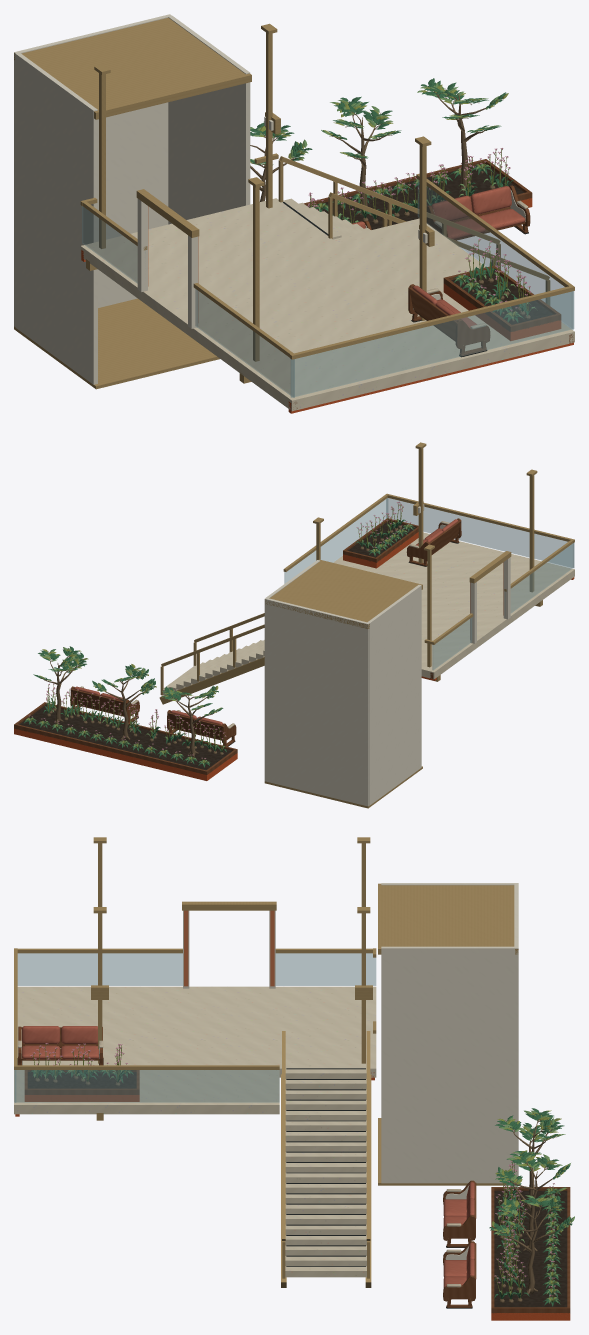
Rendered from AquaticReceiving.glb.
The picture shows the model from 3 angles, top to bottom: view 1: azimuth 30°, elevation 25°; view 2: azimuth 150°, elevation 25°; view 3: azimuth 270°, elevation 25°; orthographic projection. The views are drawn at different scales.
Parts seen in each view (by area): view 1: AquaticArrivalSlab, Aftmid_V2__BoardingLift_HousingSide_-7.7, Aftmid_V2__BoardingLift_Header, SouthGuardGlass, Aftmid_V2__BoardingLift_HousingSide_-3.5, Aftmid_V2__BoardingLift_Rear, Aftmid_V2__BoardingLift_PitPan, EastGuardGlass, TrackGuardGlass_193.11, WaterGardenBench_1_0, NorthGalleryGarden_Soil, WaterGardenBench_2_0 (+22 smaller); view 2: Aftmid_V2__BoardingLift_Rear, AquaticArrivalSlab, Aftmid_V2__BoardingLift_HousingSide_-7.7, Aftmid_V2__BoardingLift_Header, SouthGuardGlass, NorthGalleryGarden_Soil, EastGuardGlass, TrackGuardGlass_193.11, NorthGalleryGarden_Base, WaterGardenBench_0_0, WaterGardenBench_1_0, WaterGardenBench_2_0 (+12 smaller); view 3: AquaticArrivalSlab, Aftmid_V2__BoardingLift_HousingSide_-3.5, EastGuardGlass, Aftmid_V2__BoardingLift_Header, TrackGuardGlass_193.11, NorthGalleryGarden_Soil, TrackGuardGlass_187.9, WaterGardenBench_2_0, WaterGardenBench_1_0, WaterGardenBench_0_0, UpperRefugeGarden_Soil, EastGuard (+34 smaller).
Part boxes in pixels (box(x1,y1,x2,y2)): AquaticArrivalSlab: box(80, 198, 574, 411); Aftmid_V2__BoardingLift_HousingSide_-7.7: box(15, 53, 97, 384); Aftmid_V2__BoardingLift_Header: box(14, 17, 251, 119); SouthGuardGlass: box(290, 291, 574, 397); Aftmid_V2__BoardingLift_HousingSide_-3.5: box(168, 15, 250, 224); Aftmid_V2__BoardingLift_Rear: box(14, 14, 171, 326); Aftmid_V2__BoardingLift_PitPan: box(14, 298, 219, 389); EastGuardGlass: box(417, 179, 573, 329); TrackGuardGlass_193.11: box(195, 289, 294, 397); WaterGardenBench_1_0: box(426, 185, 530, 240); NorthGalleryGarden_Soil: box(309, 163, 524, 229); WaterGardenBench_2_0: box(408, 284, 490, 357); Aftmid_V2__BoardingLift_Rear: box(264, 598, 369, 806); AquaticArrivalSlab: box(333, 532, 574, 679); Aftmid_V2__BoardingLift_HousingSide_-7.7: box(367, 584, 421, 805); Aftmid_V2__BoardingLift_Header: box(265, 559, 422, 628); SouthGuardGlass: box(386, 498, 574, 567); NorthGalleryGarden_Soil: box(19, 705, 232, 770); EastGuardGlass: box(284, 498, 387, 583); TrackGuardGlass_193.11: box(505, 543, 573, 616); NorthGalleryGarden_Base: box(14, 728, 237, 780); WaterGardenBench_0_0: box(167, 710, 236, 746); WaterGardenBench_1_0: box(70, 686, 139, 722); WaterGardenBench_2_0: box(406, 518, 461, 566); AquaticArrivalSlab: box(14, 986, 376, 1114); Aftmid_V2__BoardingLift_HousingSide_-3.5: box(381, 946, 514, 1183); EastGuardGlass: box(14, 1070, 279, 1102); Aftmid_V2__BoardingLift_Header: box(378, 883, 518, 954); TrackGuardGlass_193.11: box(17, 953, 182, 985); NorthGalleryGarden_Soil: box(494, 1190, 567, 1307); TrackGuardGlass_187.9: box(275, 953, 376, 985); WaterGardenBench_2_0: box(17, 1026, 103, 1065); WaterGardenBench_1_0: box(443, 1241, 476, 1308); WaterGardenBench_0_0: box(443, 1180, 476, 1247); UpperRefugeGarden_Soil: box(27, 1072, 136, 1088); EastGuard: box(14, 1065, 279, 1069).
Size of the model in its own units: 14.36 by 8.71 by 15.63.
Materials: 32 (30 with a texture image).
